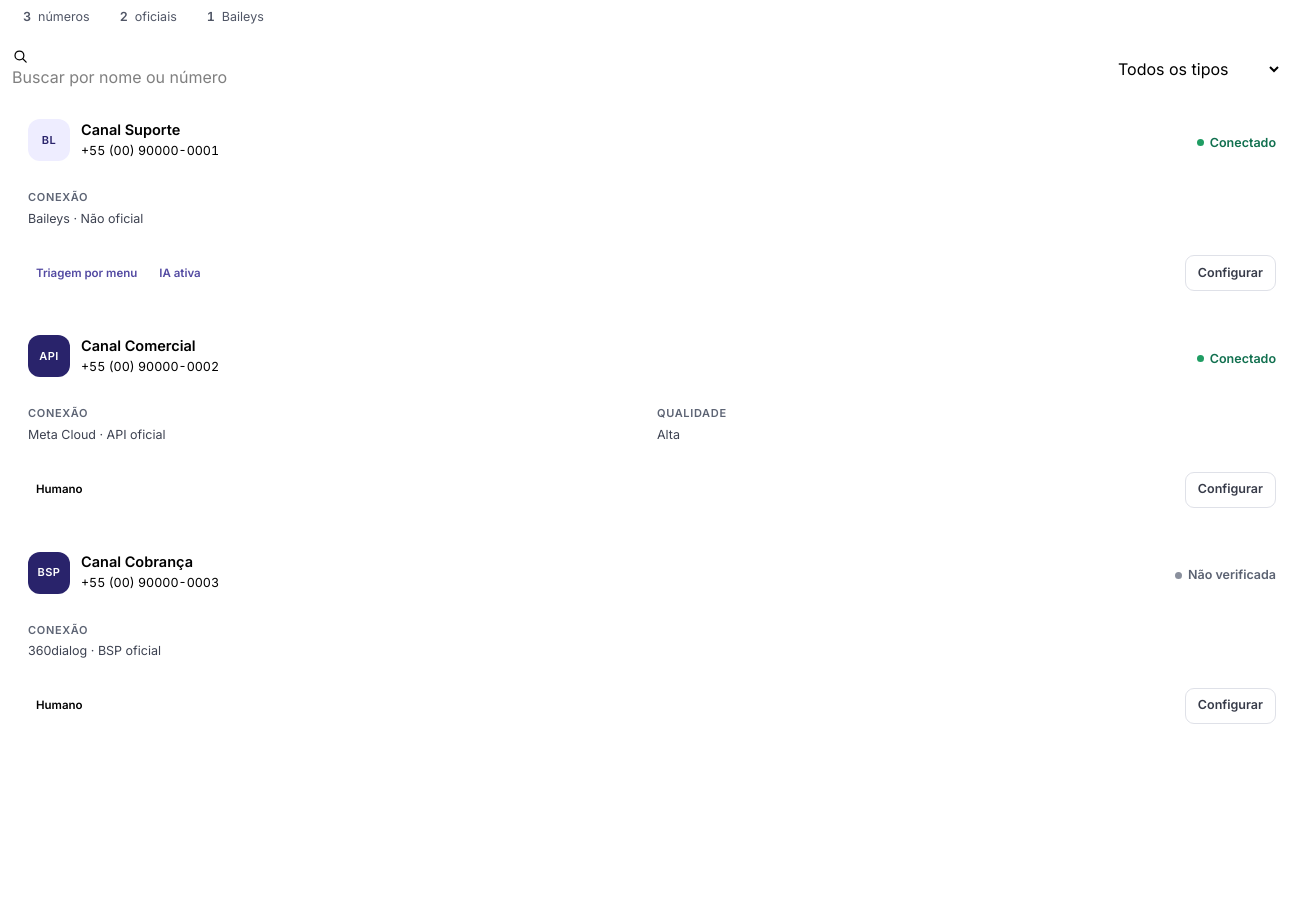
Scenario: Números conectados: busca, filtro e vazio › filtra pelo tipo de conexão
Select "Baileys" in the dropdown named "Tipo de conexão" at (1198, 68), box [1114,58,1282,80]
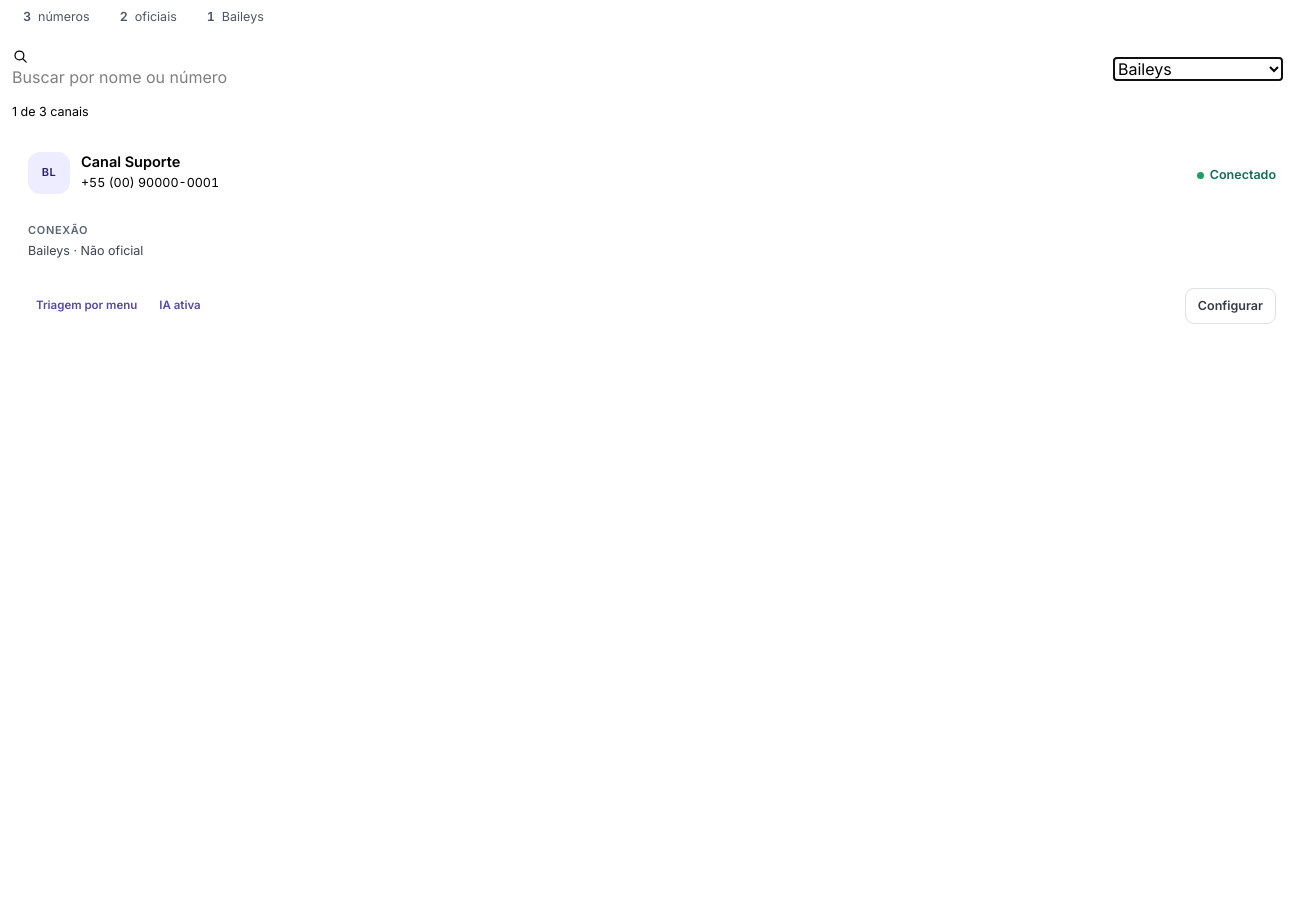
Expected: the links "Canal" read "Canal Suporte", in this order, [81,153,180,170]
